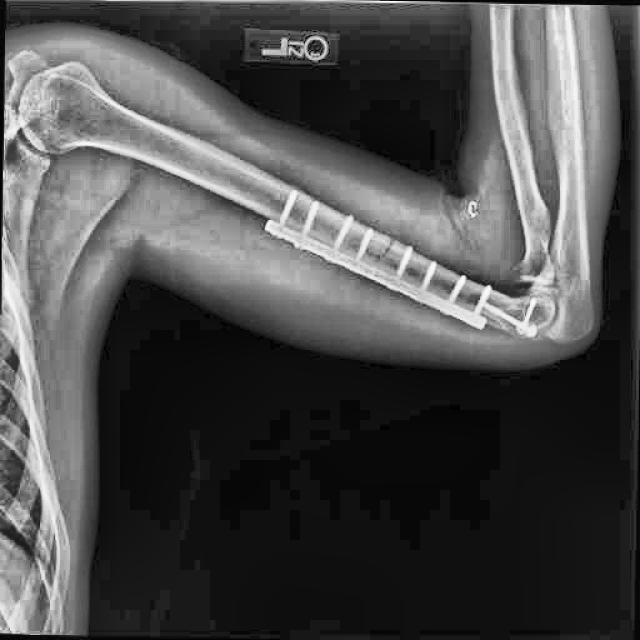humerus: (364, 230, 407, 270)
